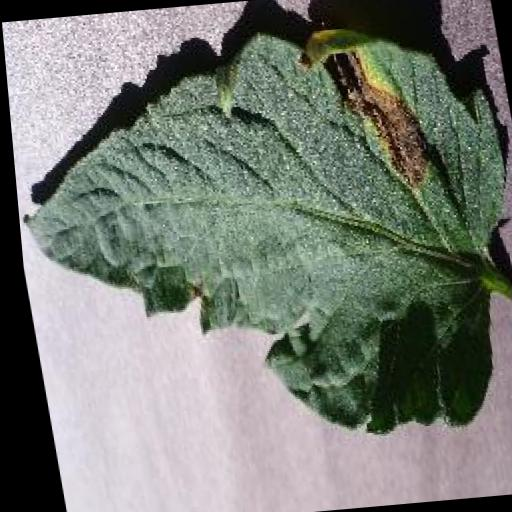Early Blight: (1, 10, 512, 460)
